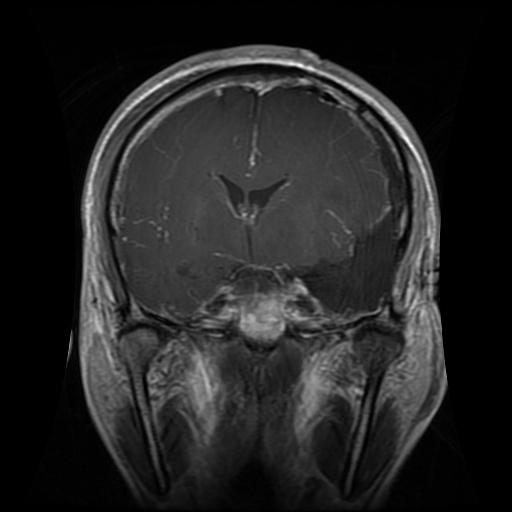glioma: (296, 139, 406, 315)
